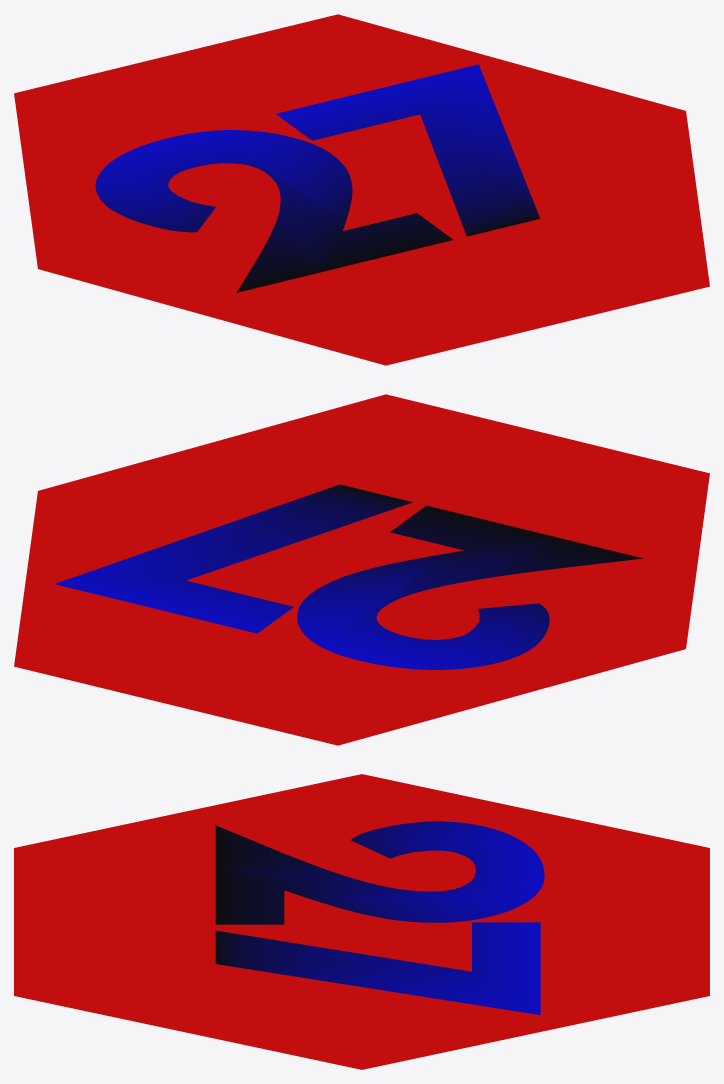
Rendered from SM_Number_27.fbx.
3 renders of one model, top to bottom at view 1: azimuth 30°, elevation 25°; view 2: azimuth 150°, elevation 25°; view 3: azimuth 270°, elevation 25°, orthographic. The views are drawn at different scales.
Parts seen in each view (by area): view 1: FBX_OUT; view 2: FBX_OUT; view 3: FBX_OUT.
Part boxes in pixels (x1,y1,x2,y2): FBX_OUT: [14, 14, 709, 365]; FBX_OUT: [14, 394, 709, 745]; FBX_OUT: [14, 774, 709, 1069].
Size of the model in its own units: 50 by 0.2917 by 49.71.
